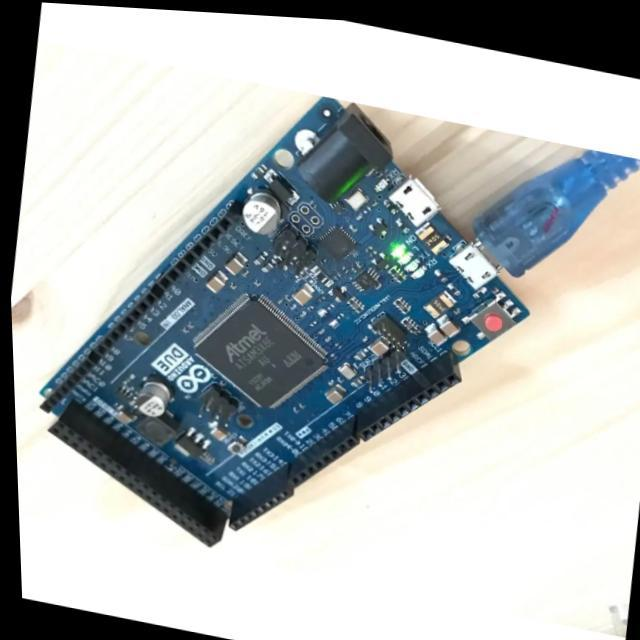Arduino-Due: (41, 98, 529, 546)
